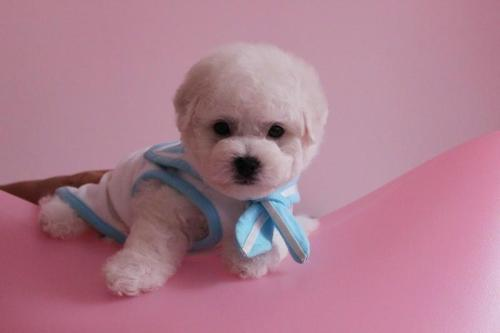dog: (174, 47, 336, 211)
